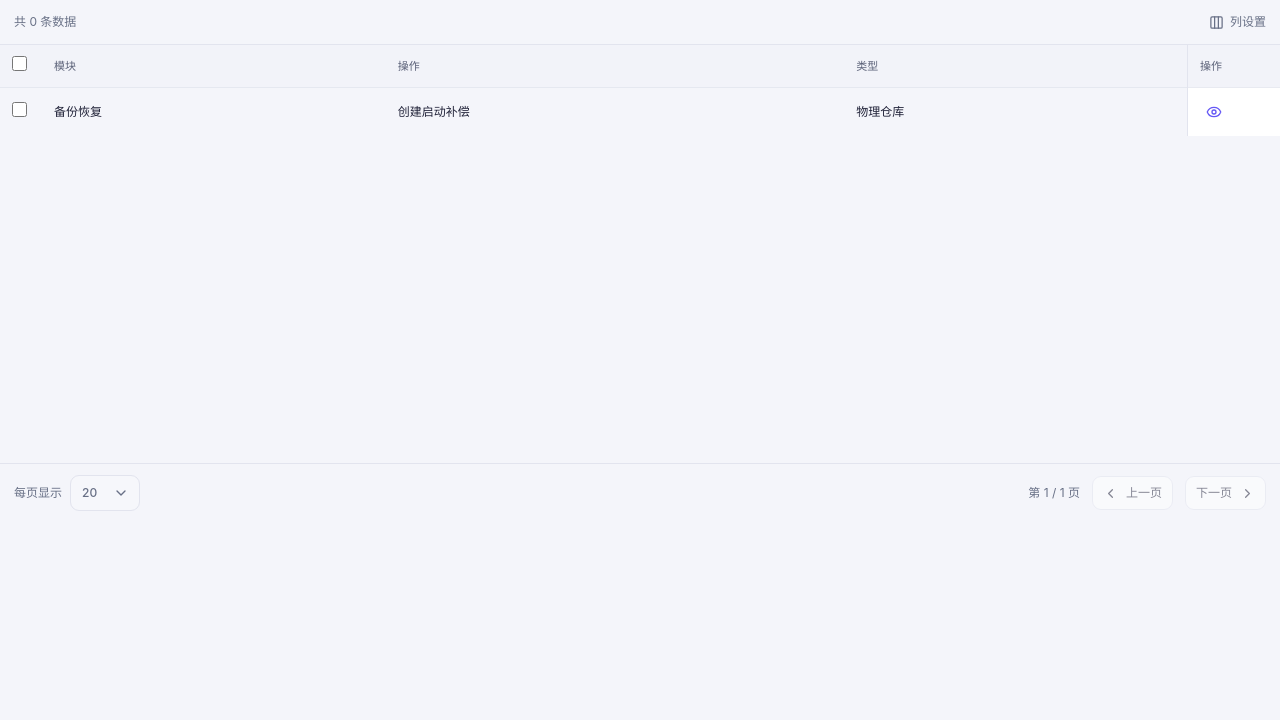
Test: DataTable default detail › groups nested audit data and uses readable labels
Click the button named "查看 BackupHistory".
click(1214, 112)  # box top-left (1200, 98), bottom-right (1228, 126)
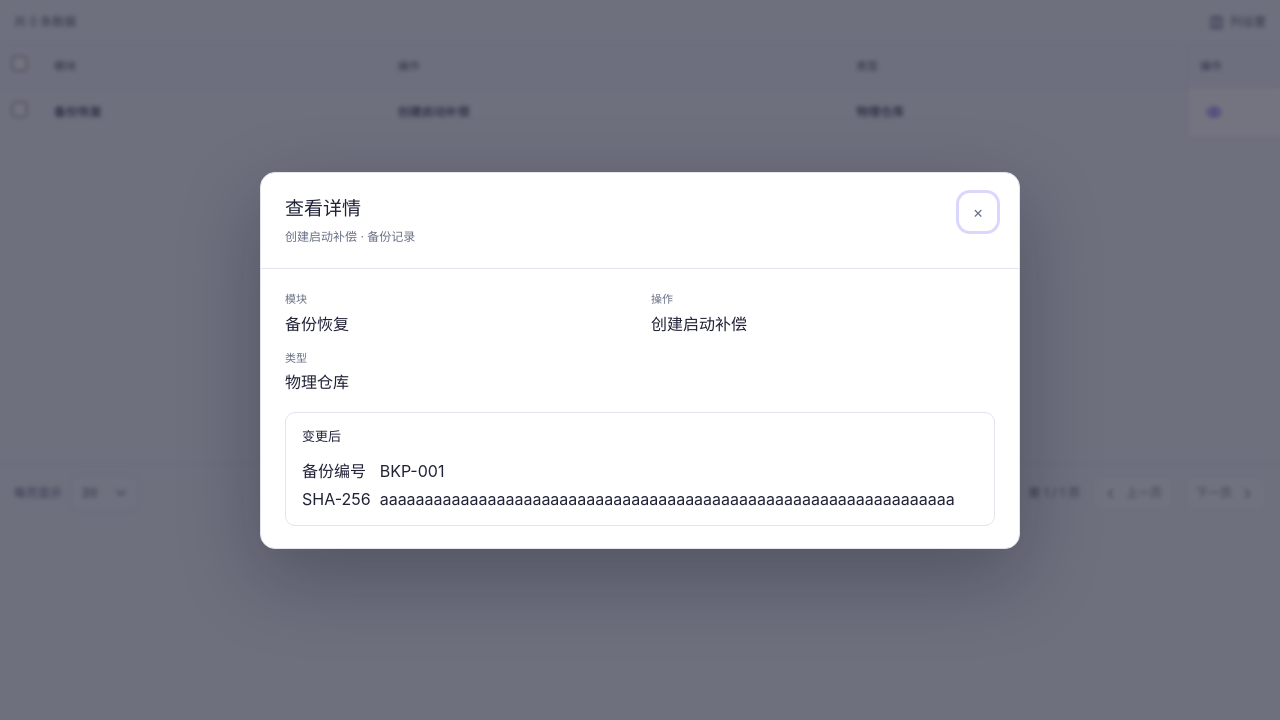
Check: the text "备份恢复" is shown 2 times, box top-left (42, 87), bottom-right (386, 136); top-left (285, 314), bottom-right (349, 334)
Check: the heading "变更后" is shown, box top-left (302, 428), bottom-right (341, 444)
Check: the text "备份编号" is shown, box top-left (302, 458), bottom-right (371, 482)
